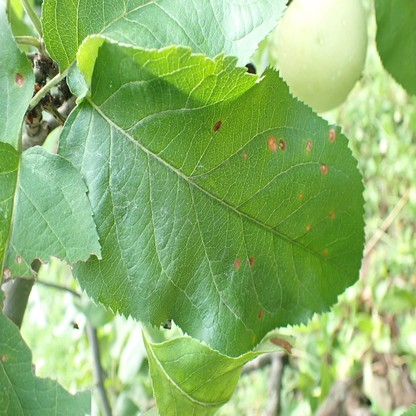frogeye: (267, 136, 285, 151), (15, 74, 24, 86), (328, 130, 336, 142), (3, 268, 11, 279), (215, 121, 222, 131), (306, 141, 311, 154), (321, 164, 327, 174), (16, 256, 22, 265), (234, 259, 240, 268), (258, 309, 262, 319), (249, 258, 253, 267), (323, 251, 327, 258), (330, 211, 334, 218), (2, 356, 6, 362), (306, 225, 310, 231), (244, 153, 248, 158), (299, 193, 302, 199)
